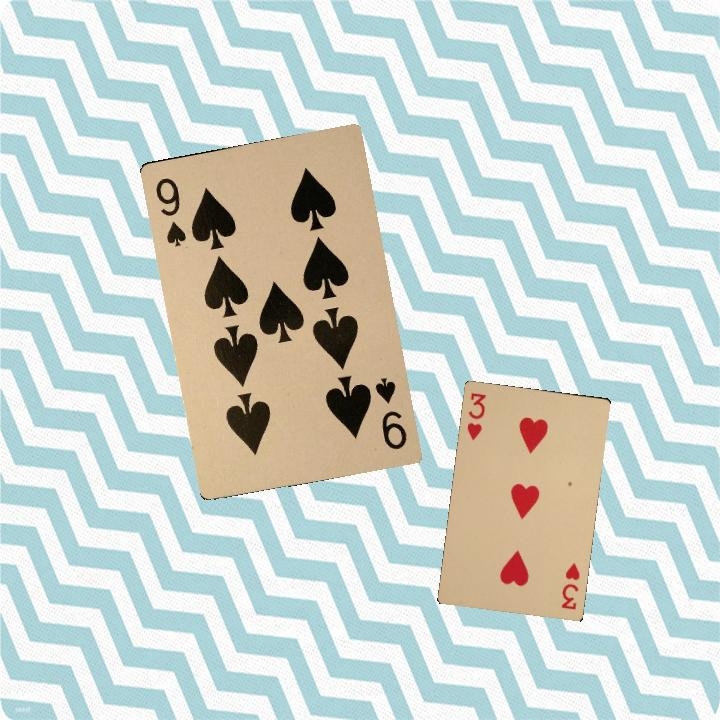3h: (463, 388, 488, 443), (557, 559, 582, 612)
9s: (371, 373, 410, 452), (151, 173, 189, 249)
